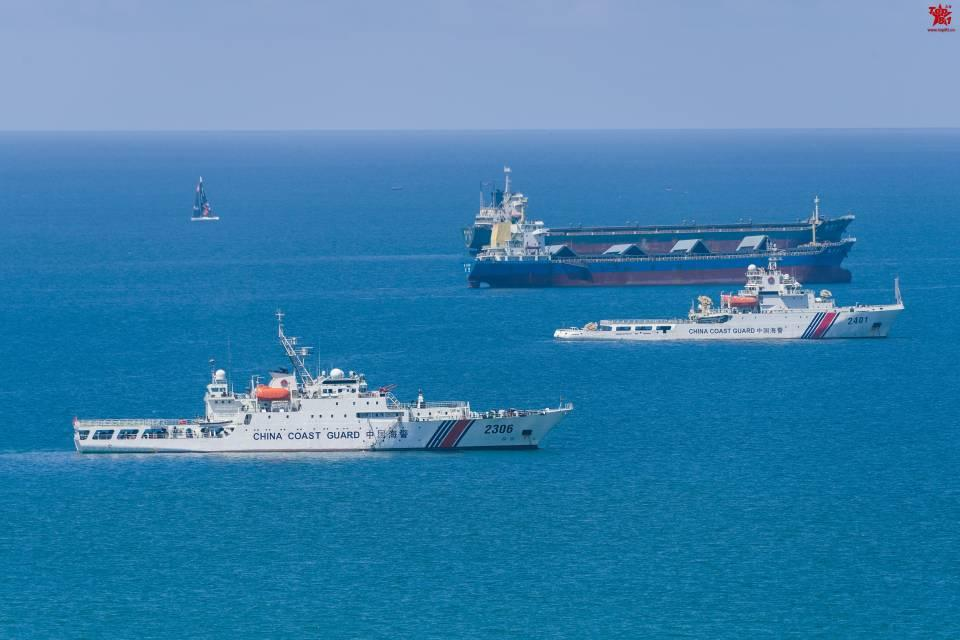Ship: (74, 311, 576, 455), (467, 164, 855, 255), (468, 221, 855, 288), (554, 270, 905, 342), (191, 178, 226, 224)
